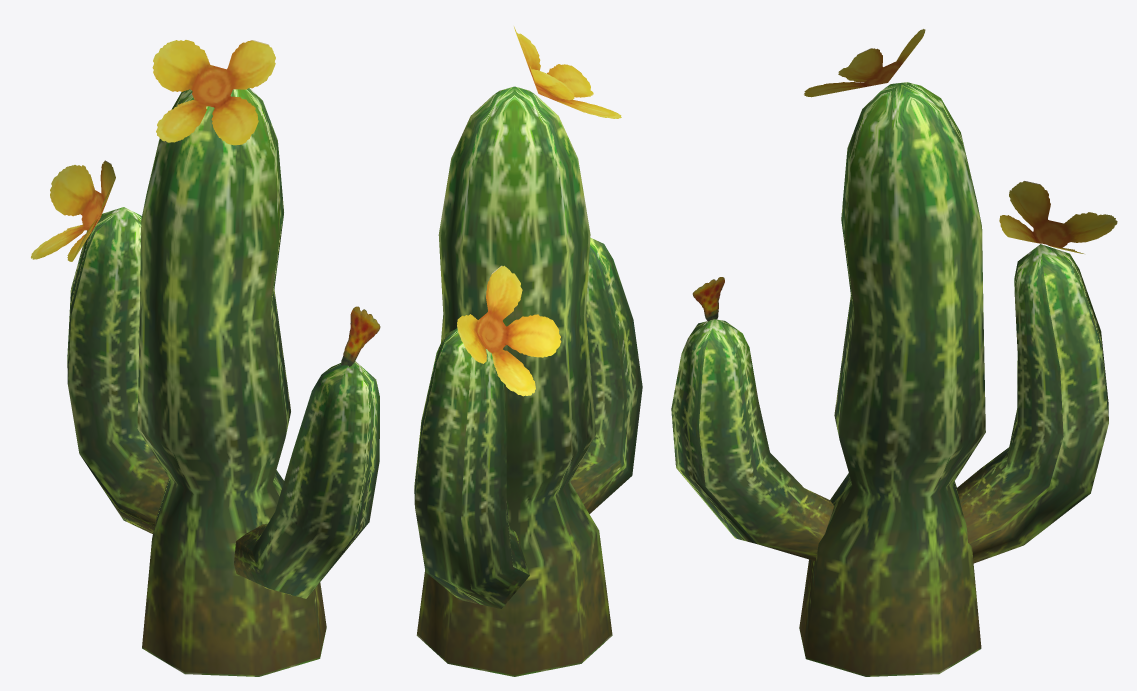
File: xianrenzhang_03.FBX
3 renders of one model, left to right at view 1: azimuth 30°, elevation 25°; view 2: azimuth 150°, elevation 25°; view 3: azimuth 270°, elevation 25°, orthographic.
Visible parts, largest first — view 1: xianrenzhang; view 2: xianrenzhang; view 3: xianrenzhang.
Part boxes in pixels (bbox=[...]): xianrenzhang: bbox=[31, 40, 380, 676]; xianrenzhang: bbox=[414, 26, 642, 676]; xianrenzhang: bbox=[671, 29, 1117, 676].
Size of the model in its own units: 8.21 by 24.04 by 16.23.
2 materials, 2 textured.
